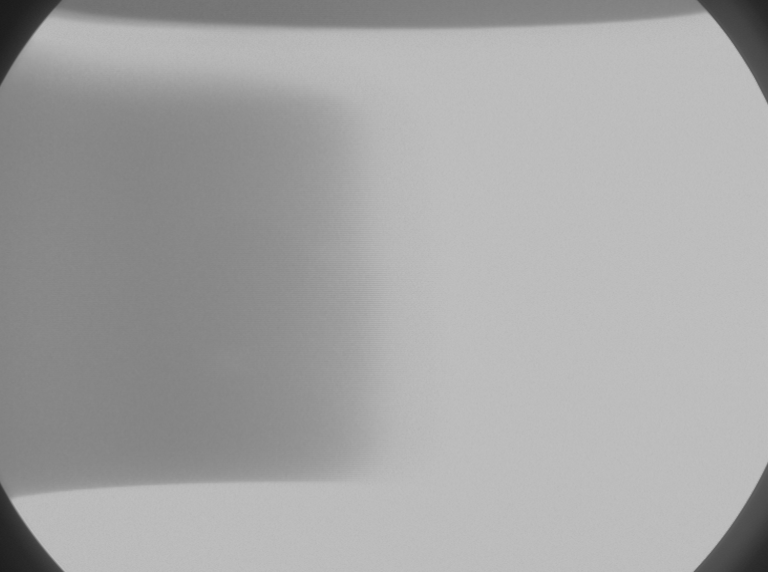defect: (208, 337, 248, 388)
